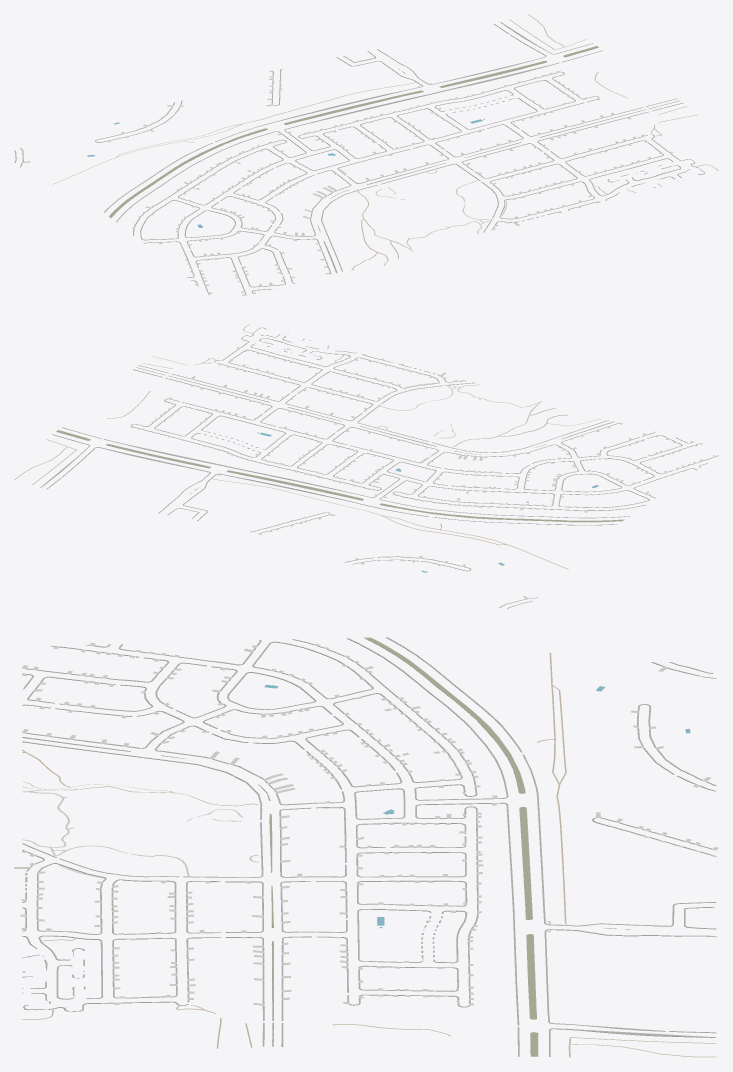
The model's file is ground_r3_c2.glb.
The picture shows the model from 3 angles, top to bottom: view 1: azimuth 30°, elevation 25°; view 2: azimuth 150°, elevation 25°; view 3: azimuth 270°, elevation 25°; orthographic projection. The views are drawn at different scales.
Parts seen in each view (by area): view 1: sidewalks, driveways, paths, medians; view 2: sidewalks, driveways, paths, medians; view 3: sidewalks, driveways, medians, paths.
Part boxes in pixels (<box>): sidewalks: <box>14,22,704,295</box>; driveways: <box>22,69,699,295</box>; paths: <box>52,14,718,270</box>; medians: <box>109,46,679,272</box>; sidewalks: <box>40,327,718,608</box>; driveways: <box>131,331,716,604</box>; paths: <box>14,324,600,569</box>; medians: <box>56,367,624,522</box>; sidewalks: <box>22,637,716,1056</box>; driveways: <box>14,642,718,1009</box>; medians: <box>22,637,538,1056</box>; paths: <box>22,652,716,1057</box>.
Bounding box in the file's own units: 1129 × 45.2 × 800.
